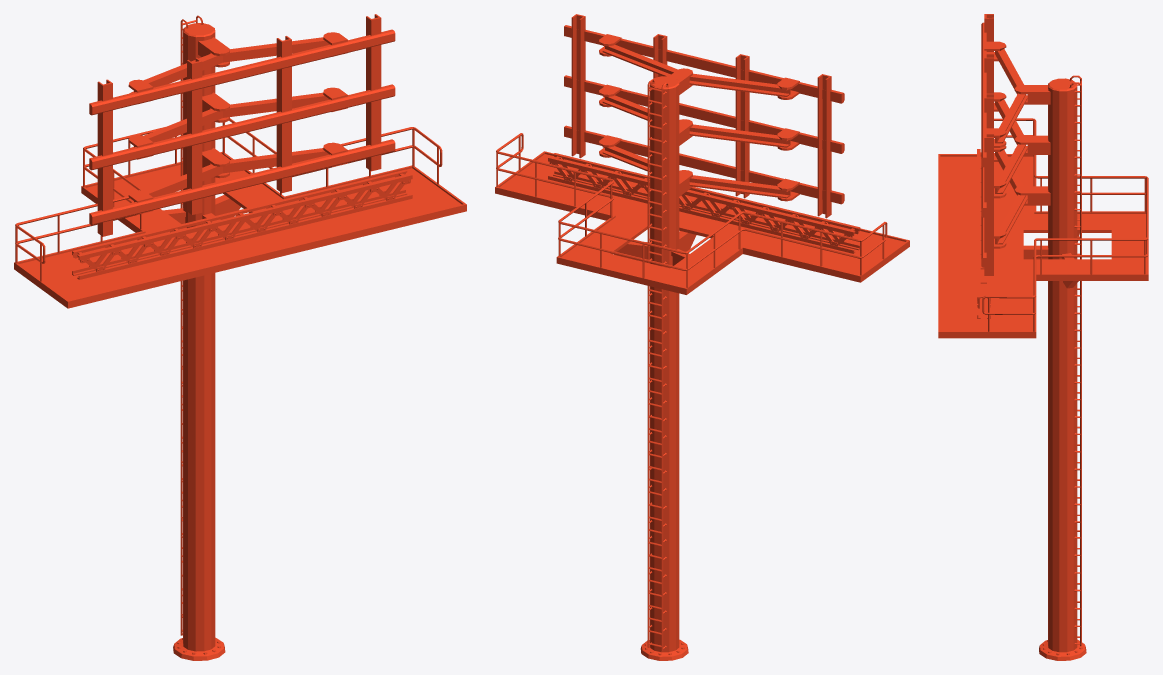
File: SM_Billboard_A_Stand_City.fbx
3 renders of one model, left to right at view 1: azimuth 30°, elevation 25°; view 2: azimuth 150°, elevation 25°; view 3: azimuth 270°, elevation 25°, orthographic. The views are drawn at different scales.
Parts seen in each view (by area): view 1: SM_Billboard_A_Stand_City; view 2: SM_Billboard_A_Stand_City; view 3: SM_Billboard_A_Stand_City.
Part boxes in pixels (box(x1,y1,x2,y2)): SM_Billboard_A_Stand_City: box(14, 14, 466, 660); SM_Billboard_A_Stand_City: box(495, 14, 909, 660); SM_Billboard_A_Stand_City: box(938, 14, 1148, 660).
Bounding box in the file's own units: 12.17 × 18.27 × 6.06.
